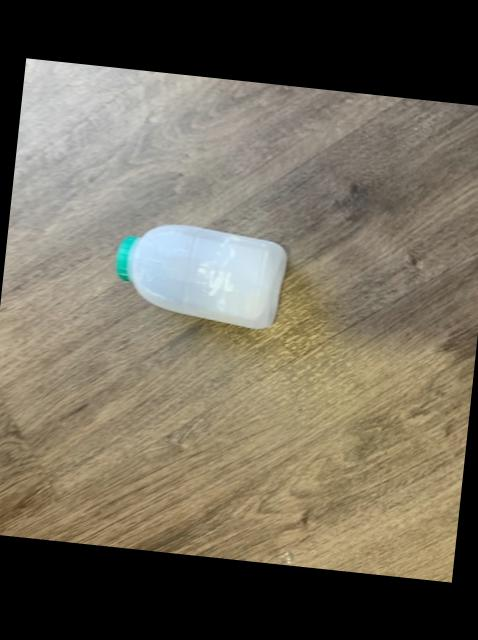plastic: (115, 225, 285, 329)
